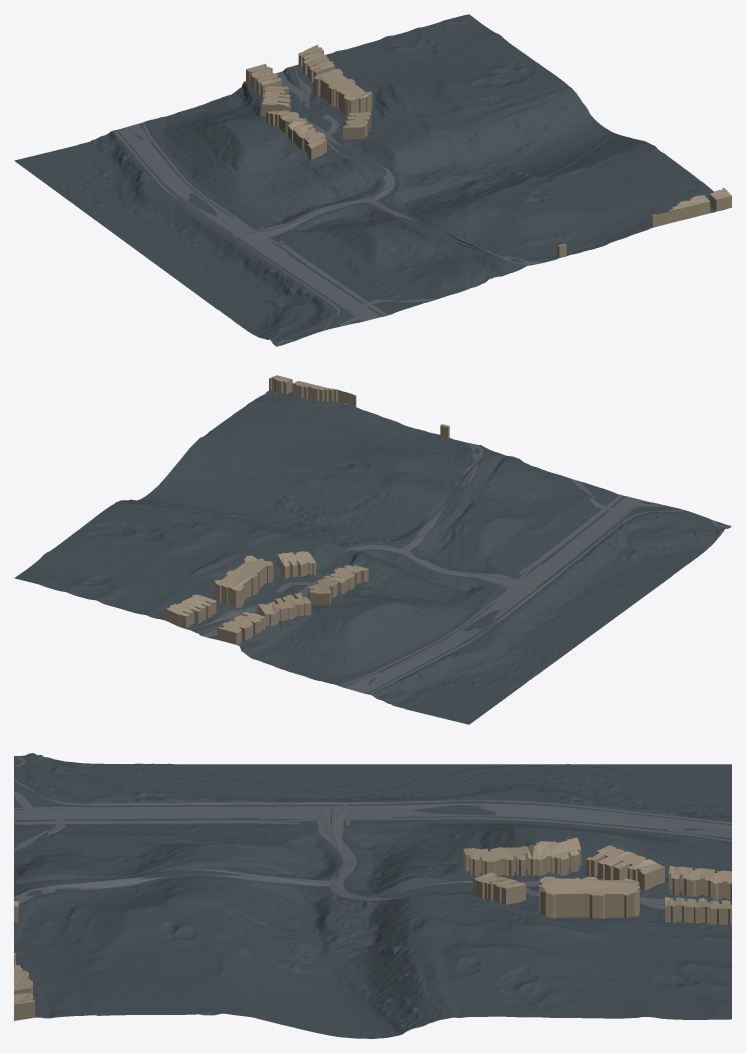
File: epsg26910-1420-10869.lod0.glb
3 renders of one model, top to bottom at view 1: azimuth 30°, elevation 25°; view 2: azimuth 150°, elevation 25°; view 3: azimuth 270°, elevation 25°, orthographic. The views are drawn at different scales.
Visible parts, largest first — view 1: epsg26910-1420-10869-lod0; view 2: epsg26910-1420-10869-lod0; view 3: epsg26910-1420-10869-lod0.
Boxes of the visible parts, x1,y1,x2,y2 form: epsg26910-1420-10869-lod0: (14,14,731,346); epsg26910-1420-10869-lod0: (14,375,731,724); epsg26910-1420-10869-lod0: (14,753,731,1038).
Size of the model in its own units: 384 by 39.18 by 384.
